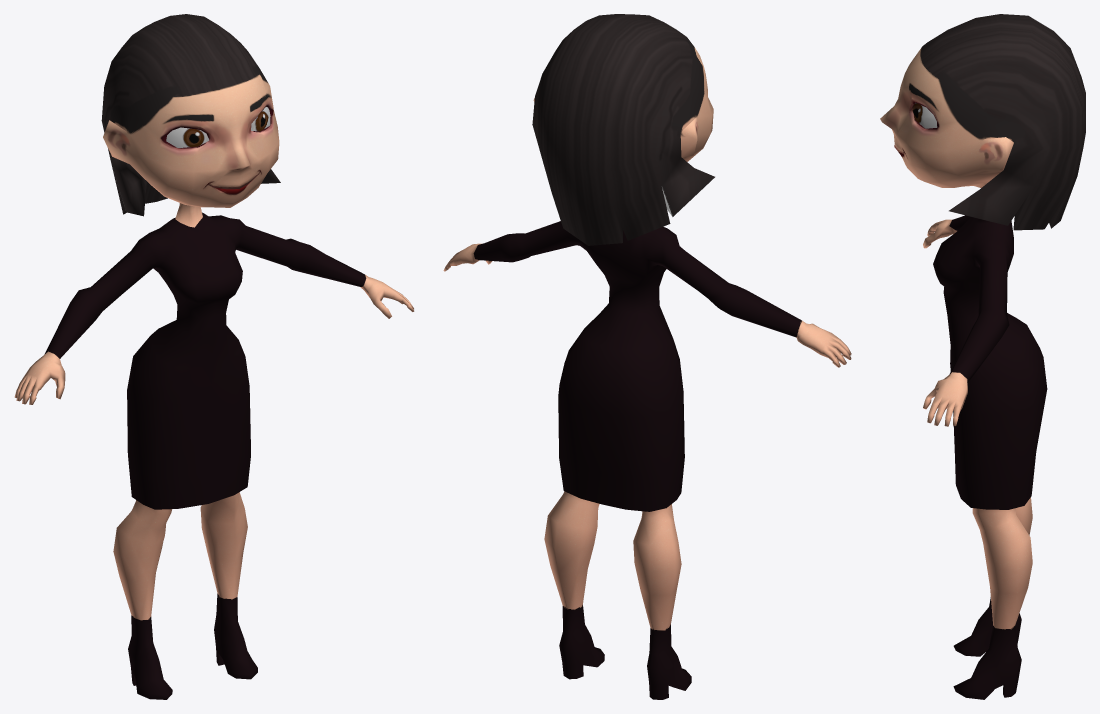
Rendered from girl_texture.FBX.
3 renders of one model, left to right at view 1: azimuth 30°, elevation 25°; view 2: azimuth 150°, elevation 25°; view 3: azimuth 270°, elevation 25°, orthographic. The views are drawn at different scales.
Visible parts, largest first — view 1: woman001; view 2: woman001; view 3: woman001.
Part boxes in pixels (bbox=[...]): woman001: bbox=[14, 14, 414, 699]; woman001: bbox=[443, 14, 851, 699]; woman001: bbox=[880, 14, 1085, 699].
Size of the model in its own units: 106 by 168 by 48.13.
